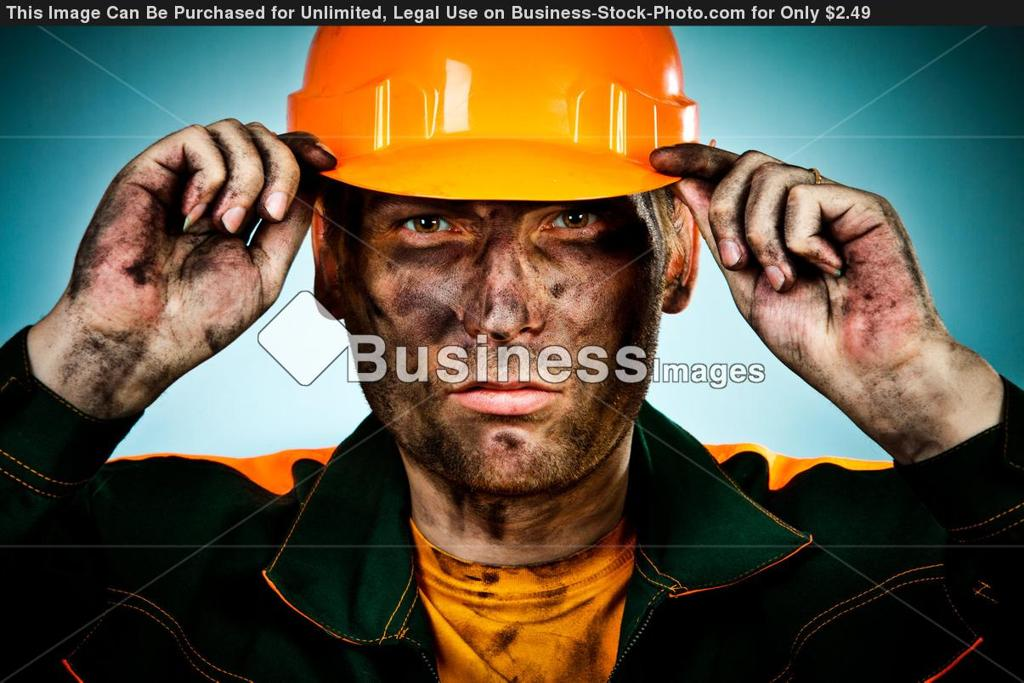face: (358, 78, 650, 450)
